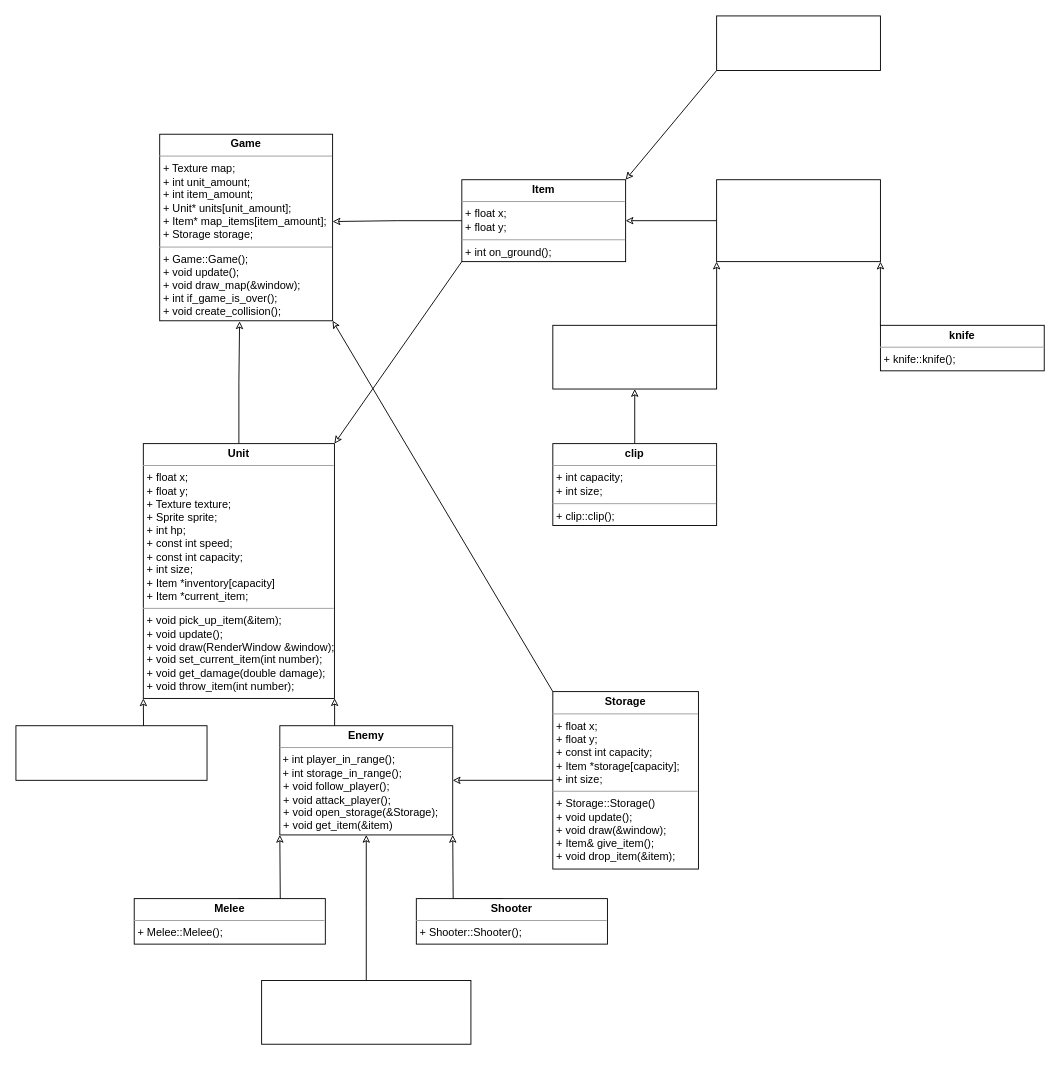
Image size: 1060x1067. Some labels were removed from this diagram. Here are the shapes that lost their labels. From the top down, the centre of each, then its label:
point (798, 43): first_aid_kit + first_aid_kit::first_aid_kit(); + void use_first_aid_kit();
point (798, 220): weapon + double damage; + double rate_of_fire; + void make_a_shot(&weapon );
point (634, 356): ak47 + ak47::ak47(); + void reload(&clip);
point (111, 752): Player + Player::Player();
point (366, 1012): Friendly + Friendly::Friendly(); + void find_path_to_storage();
